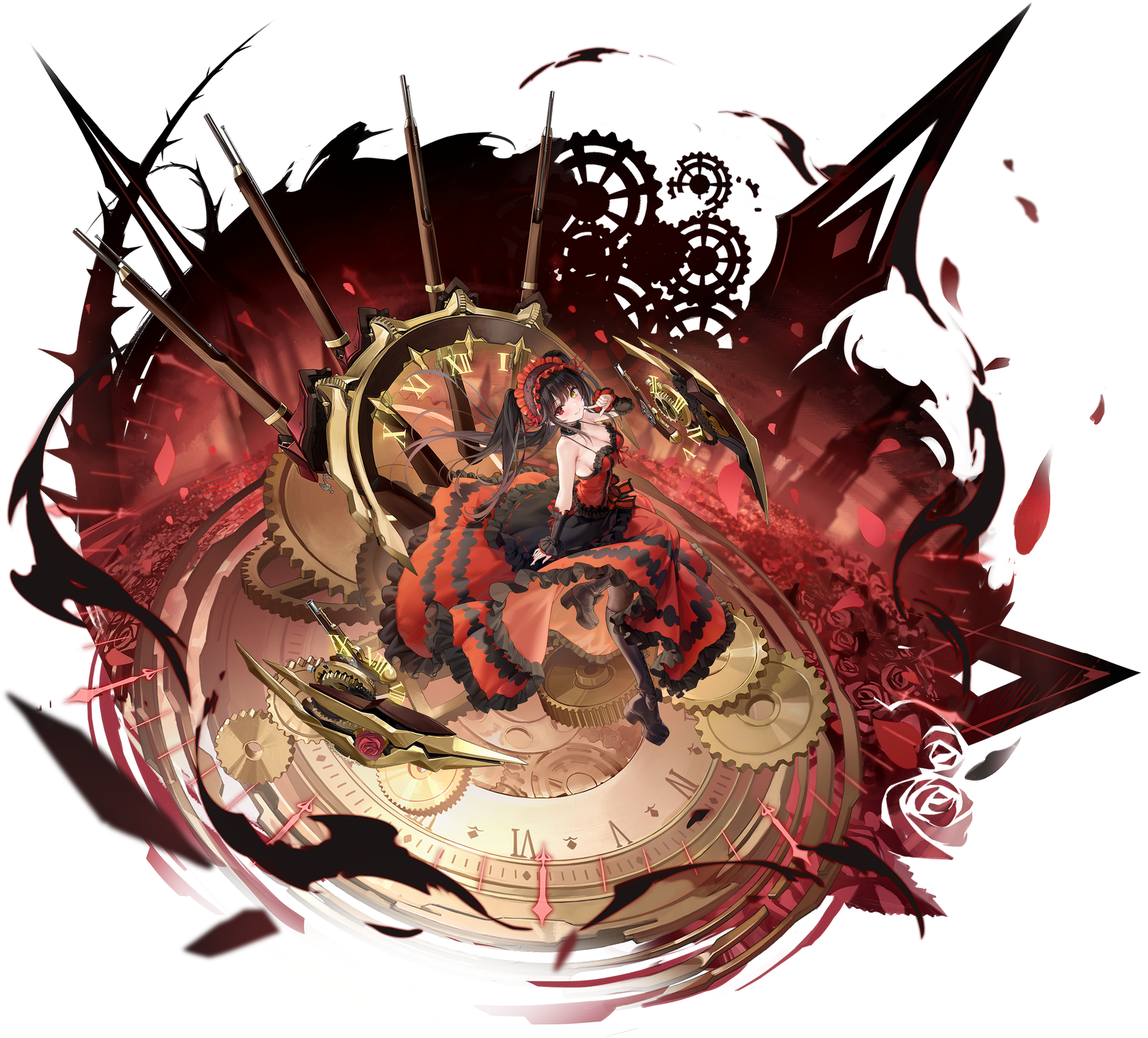person: (486, 341, 739, 782)
